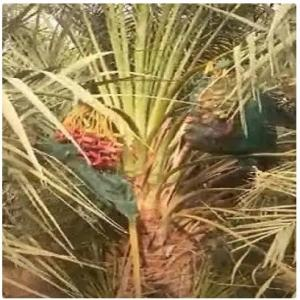palm tree: (2, 3, 296, 298)
